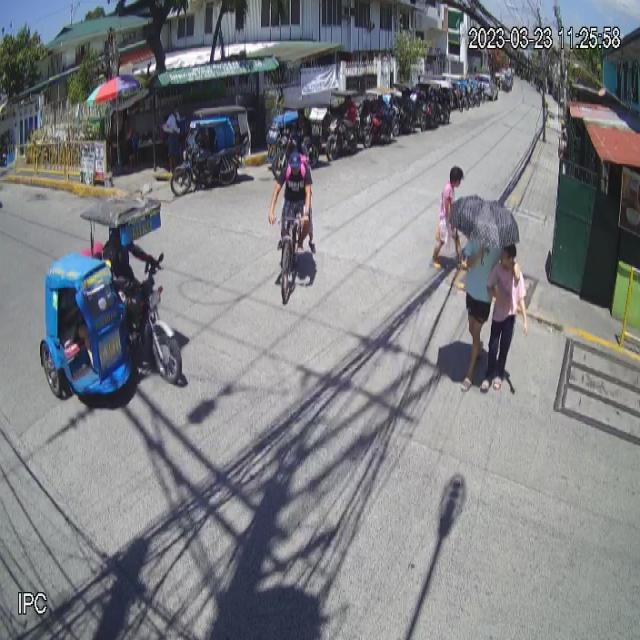Tricycle: (39, 194, 182, 400)
